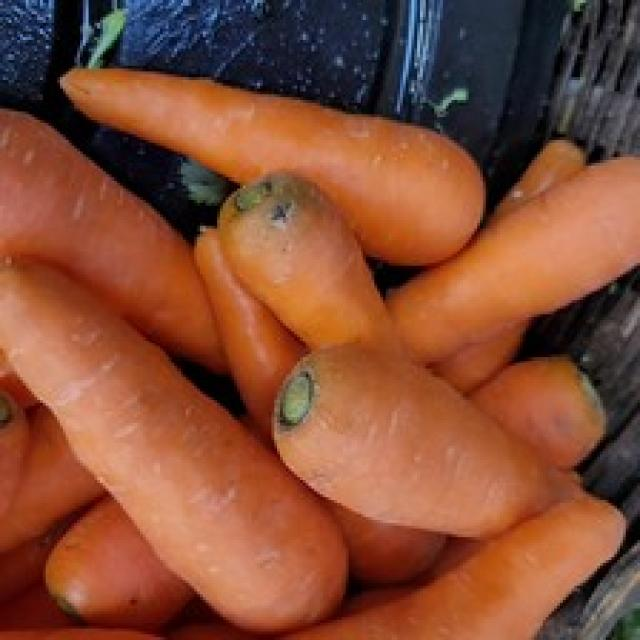Fresh_Carrot: (0, 246, 342, 640), (47, 39, 497, 237), (181, 190, 395, 392)
